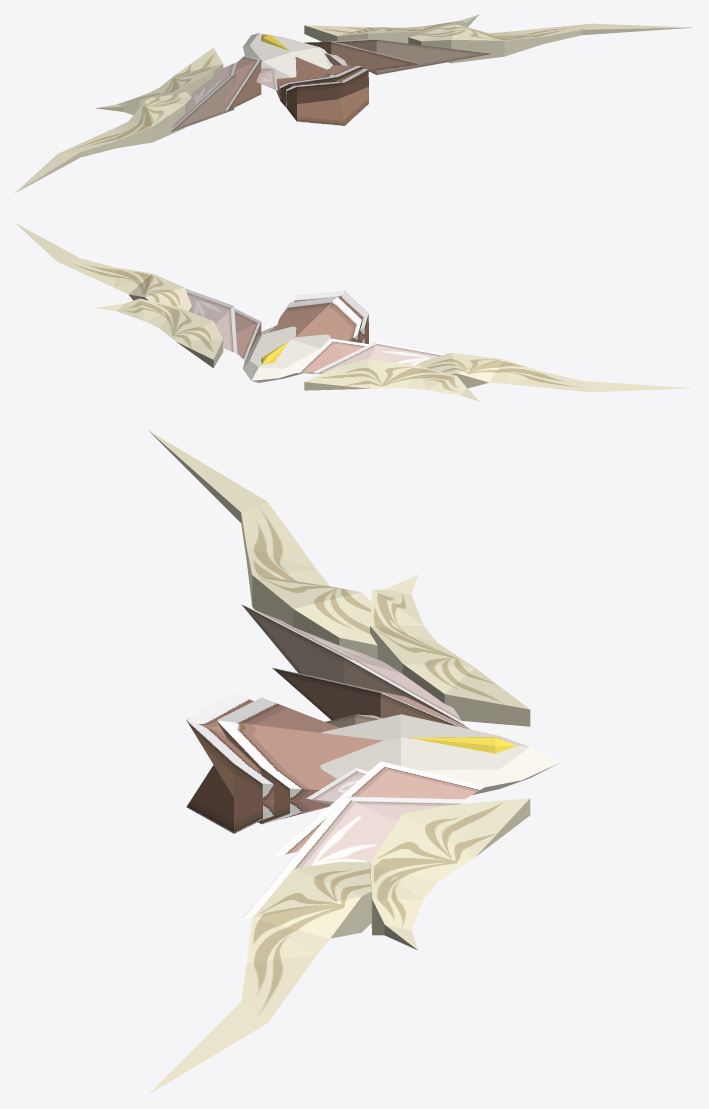
Rendered from Bow_hand_fbx.FBX.
3 views of the same model, one above another, from view 1: azimuth 30°, elevation 25°; view 2: azimuth 150°, elevation 25°; view 3: azimuth 270°, elevation 25° (orthographic). The views are drawn at different scales.
Parts seen in each view (by area): view 1: Object002; view 2: Object002; view 3: Object002.
Part boxes in pixels (x1,y1,x2,y2): Object002: [14, 14, 691, 193]; Object002: [14, 222, 691, 401]; Object002: [148, 430, 560, 1094].
Size of the model in its own units: 337 by 20.64 by 88.56.
Materials: 1 (1 with a texture image).
